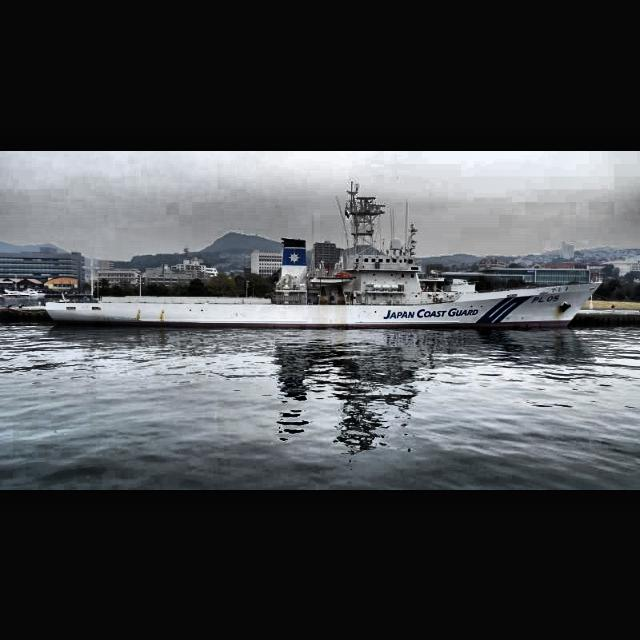patrol_vessel: (43, 184, 605, 334)
